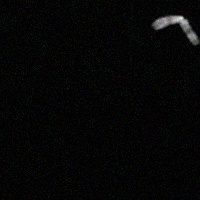chromosome: (152, 14, 199, 45)
